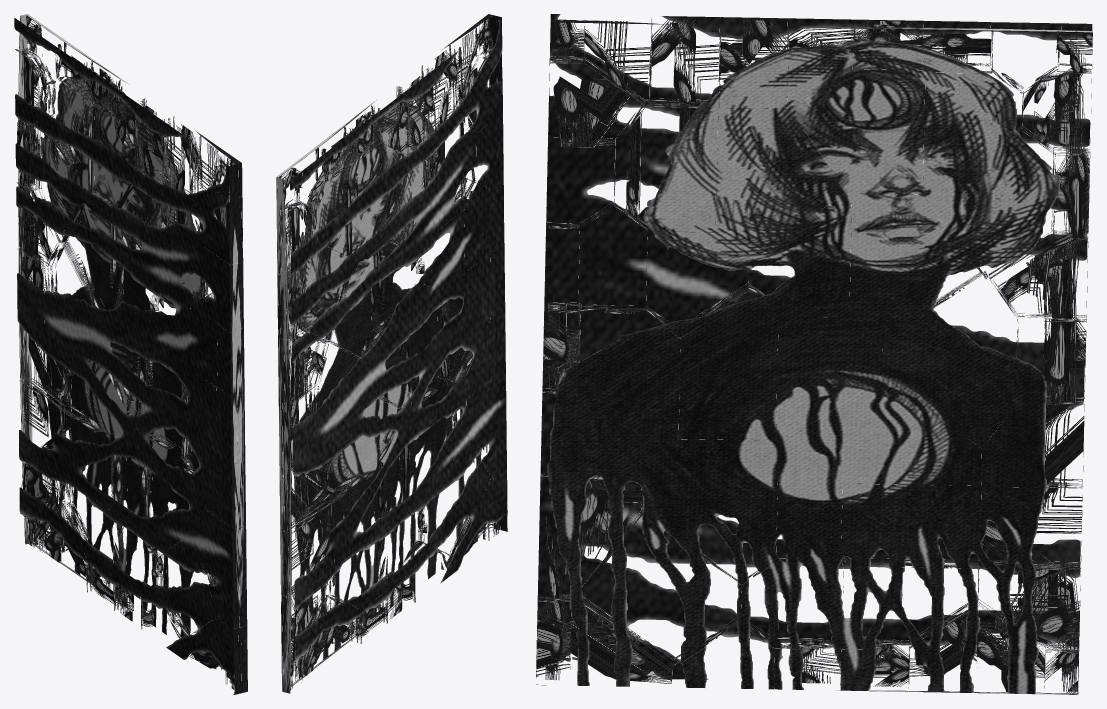
The model's file is angelgirl.fbx.
3 views of the same model, side by side, from view 1: azimuth 30°, elevation 25°; view 2: azimuth 150°, elevation 25°; view 3: azimuth 270°, elevation 25° (orthographic). The views are drawn at different scales.
Visible parts, largest first — view 1: Cube_cell.073, Cube_cell.053, Cube_cell.047, Cube_cell.066, Cube_cell, Cube_cell.090, Cube_cell.043, Cube_cell.095, Cube_cell.059, Cube_cell.080, Cube_cell.009, Cube_cell.051 (+59 smaller); view 2: Cube_cell.073, Cube_cell.053, Cube_cell.047, Cube_cell, Cube_cell.090, Cube_cell.066, Cube_cell.059, Cube_cell.043, Cube_cell.095, Cube_cell.032, Cube_cell.009, Cube_cell.051 (+62 smaller); view 3: Cube_cell.073, Cube_cell.053, Cube_cell.059, Cube_cell, Cube_cell.090, Cube_cell.043, Cube_cell.047, Cube_cell.032, Cube_cell.095, Cube_cell.066, Cube_cell.009, Cube_cell.086 (+64 smaller).
Boxes of the visible parts, <box> form: Cube_cell.073: <box>138,430,197,555</box>; Cube_cell.053: <box>111,165,175,292</box>; Cube_cell.047: <box>44,240,110,376</box>; Cube_cell.066: <box>59,405,127,510</box>; Cube_cell: <box>82,95,144,214</box>; Cube_cell.090: <box>136,322,191,457</box>; Cube_cell.043: <box>60,192,123,322</box>; Cube_cell.095: <box>29,115,94,242</box>; Cube_cell.059: <box>59,350,142,444</box>; Cube_cell.080: <box>192,500,239,628</box>; Cube_cell.009: <box>153,533,217,641</box>; Cube_cell.051: <box>41,76,94,196</box>; Cube_cell.073: <box>399,377,466,512</box>; Cube_cell.053: <box>372,129,436,255</box>; Cube_cell.047: <box>305,339,372,472</box>; Cube_cell: <box>342,139,407,256</box>; Cube_cell.090: <box>400,284,452,410</box>; Cube_cell.066: <box>320,459,385,566</box>; Cube_cell.059: <box>319,391,409,502</box>; Cube_cell.043: <box>325,234,384,361</box>; Cube_cell.095: <box>295,236,355,343</box>; Cube_cell.032: <box>437,254,490,383</box>; Cube_cell.009: <box>414,427,490,556</box>; Cube_cell.051: <box>304,161,358,261</box>; Cube_cell.073: <box>641,439,778,584</box>; Cube_cell.053: <box>715,107,847,255</box>; Cube_cell.059: <box>784,377,981,485</box>; Cube_cell: <box>790,69,925,194</box>; Cube_cell.090: <box>678,283,778,440</box>; Cube_cell.043: <box>849,191,981,340</box>; Cube_cell.047: <box>882,273,1018,448</box>; Cube_cell.032: <box>576,304,680,452</box>; Cube_cell.095: <box>923,126,1055,278</box>; Cube_cell.066: <box>841,483,981,568</box>; Cube_cell.009: <box>576,511,741,667</box>; Cube_cell.086: <box>776,310,882,441</box>.
Bounding box in the file's own units: 34.92 × 1304 × 979.
1 material, 1 textured.
